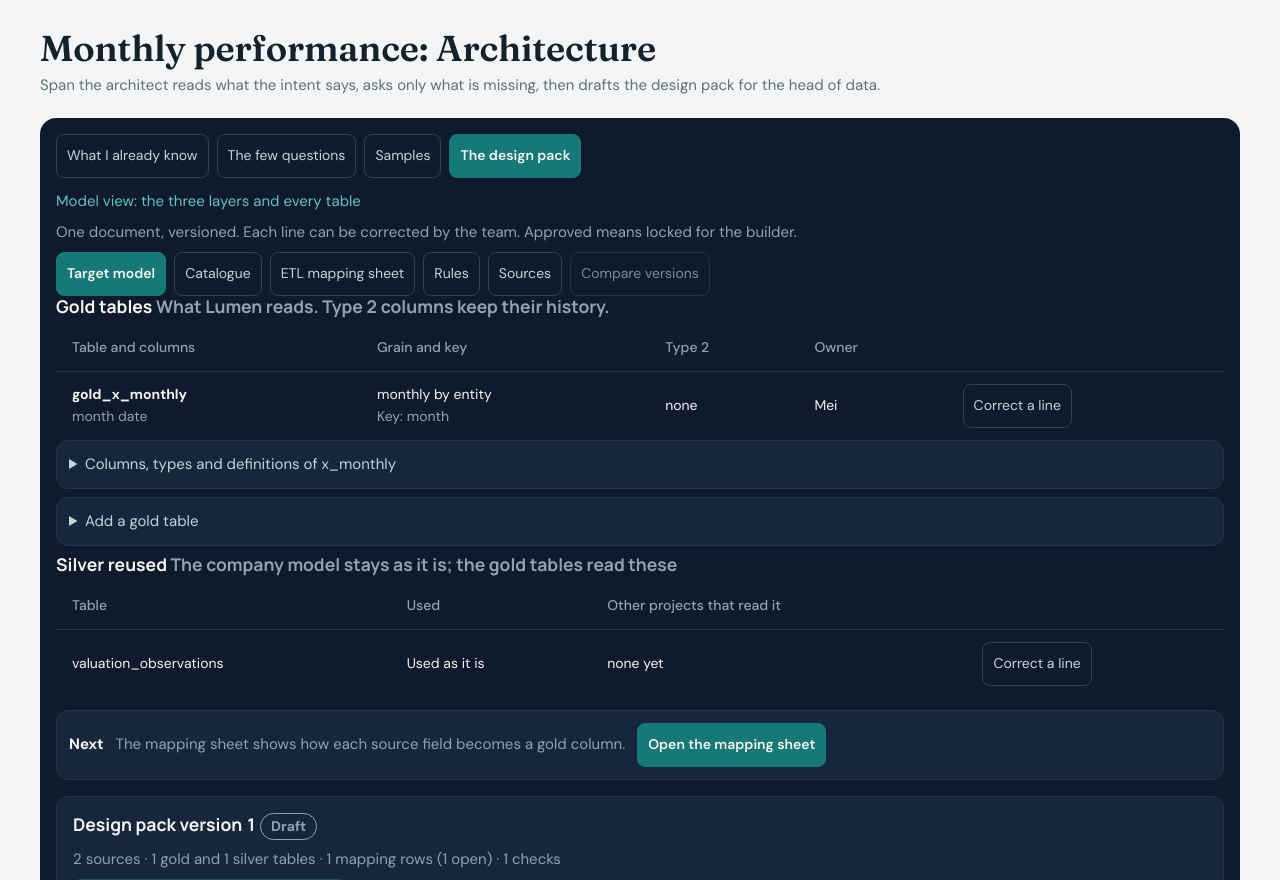
Scenario: Architecture step (V6 H1-H6) › holds the send back while a mapping row needs a person, and only the head of data sees Approve
The width and height of the screenshot is (1280, 880).
expect the element named "The design pack" is shown: met, box [56,221,1224,780]
expect the text "gold_x_monthly" is shown: met, box [72,385,187,403]
Click the button "ETL mapping sheet".
click(343, 274)  # box [270,252,415,296]
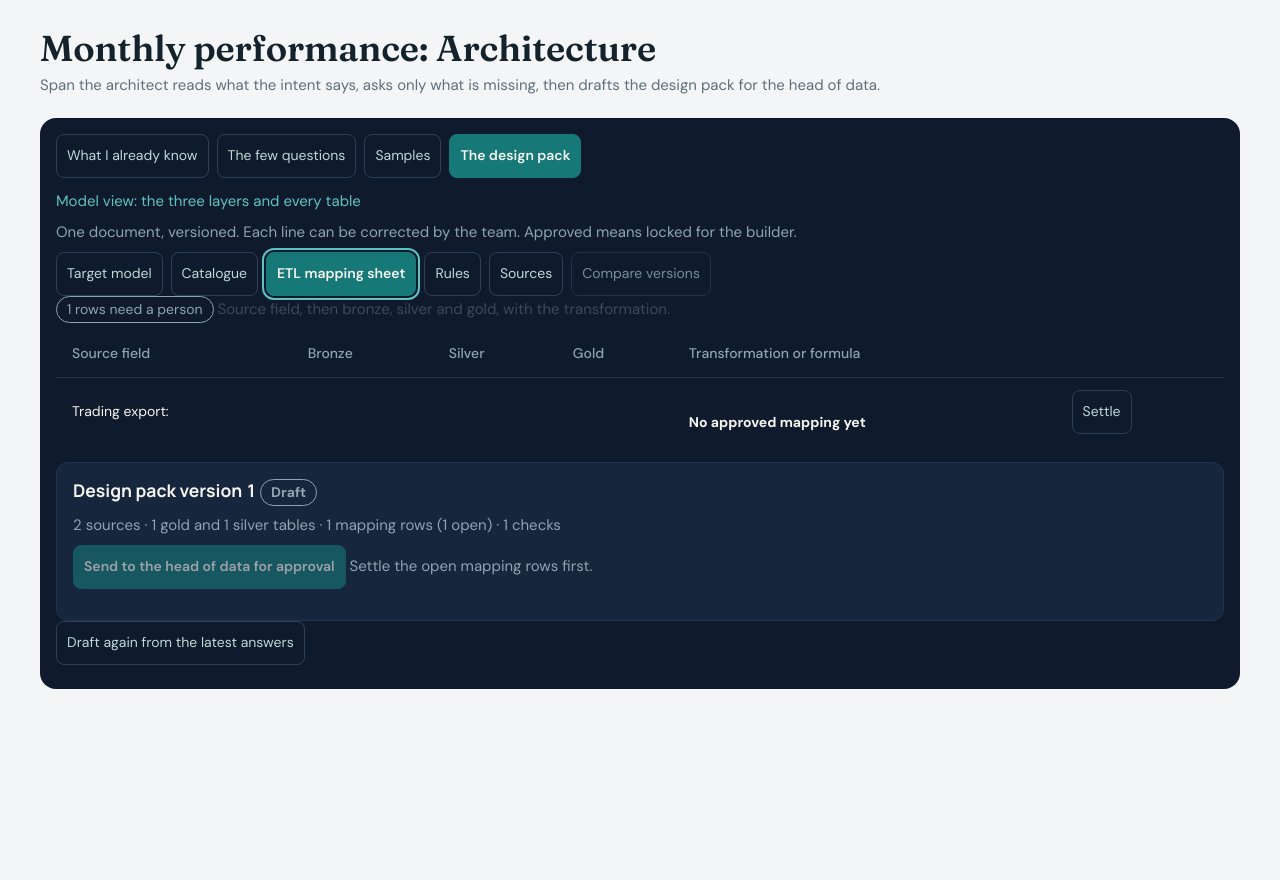
expect the text "No approved mapping yet" is shown: met, box [689,413,866,431]
expect the text "1 rows need a person" is shown: met, box [56,296,214,323]
